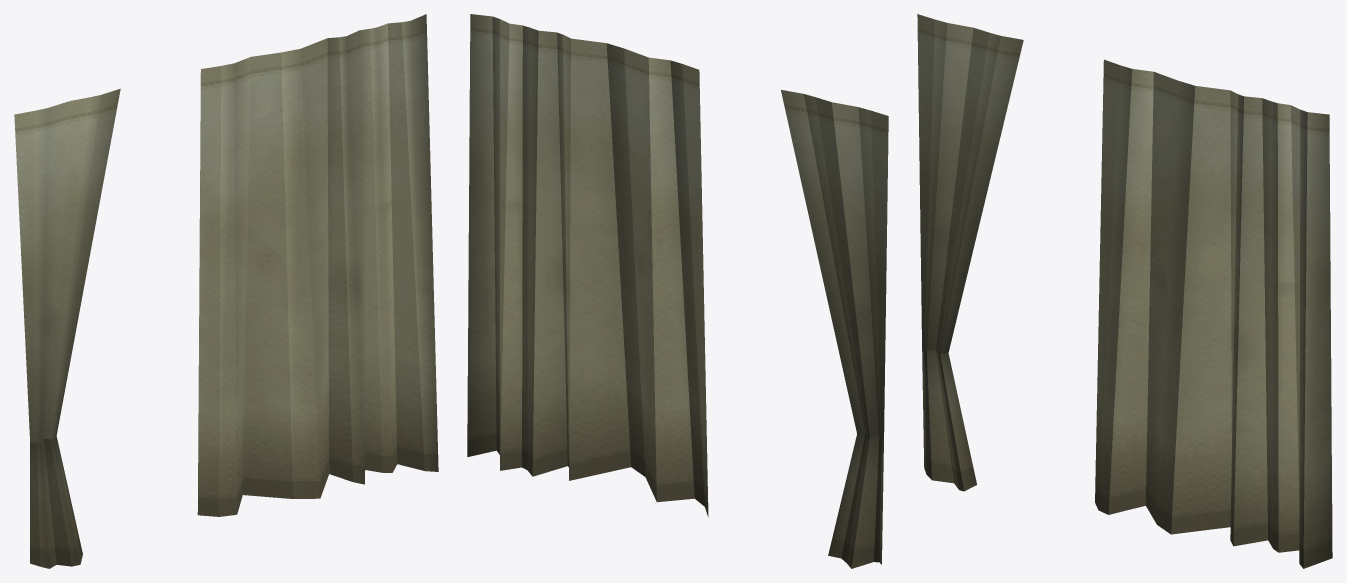
The model's file is prop_curtain-half-1.glb.
3 views of the same model, side by side, from view 1: azimuth 30°, elevation 25°; view 2: azimuth 150°, elevation 25°; view 3: azimuth 330°, elevation 25° (orthographic).
Parts seen in each view (by area): view 1: prop_curtain-half-1; view 2: prop_curtain-half-1; view 3: prop_curtain-half-1.
Part boxes in pixels (x1,y1,x2,y2): prop_curtain-half-1: (14, 14, 438, 568); prop_curtain-half-1: (467, 14, 888, 568); prop_curtain-half-1: (917, 14, 1332, 568).
Size of the model in its own units: 1.73 by 1.82 by 0.188.
1 material, 1 textured.
